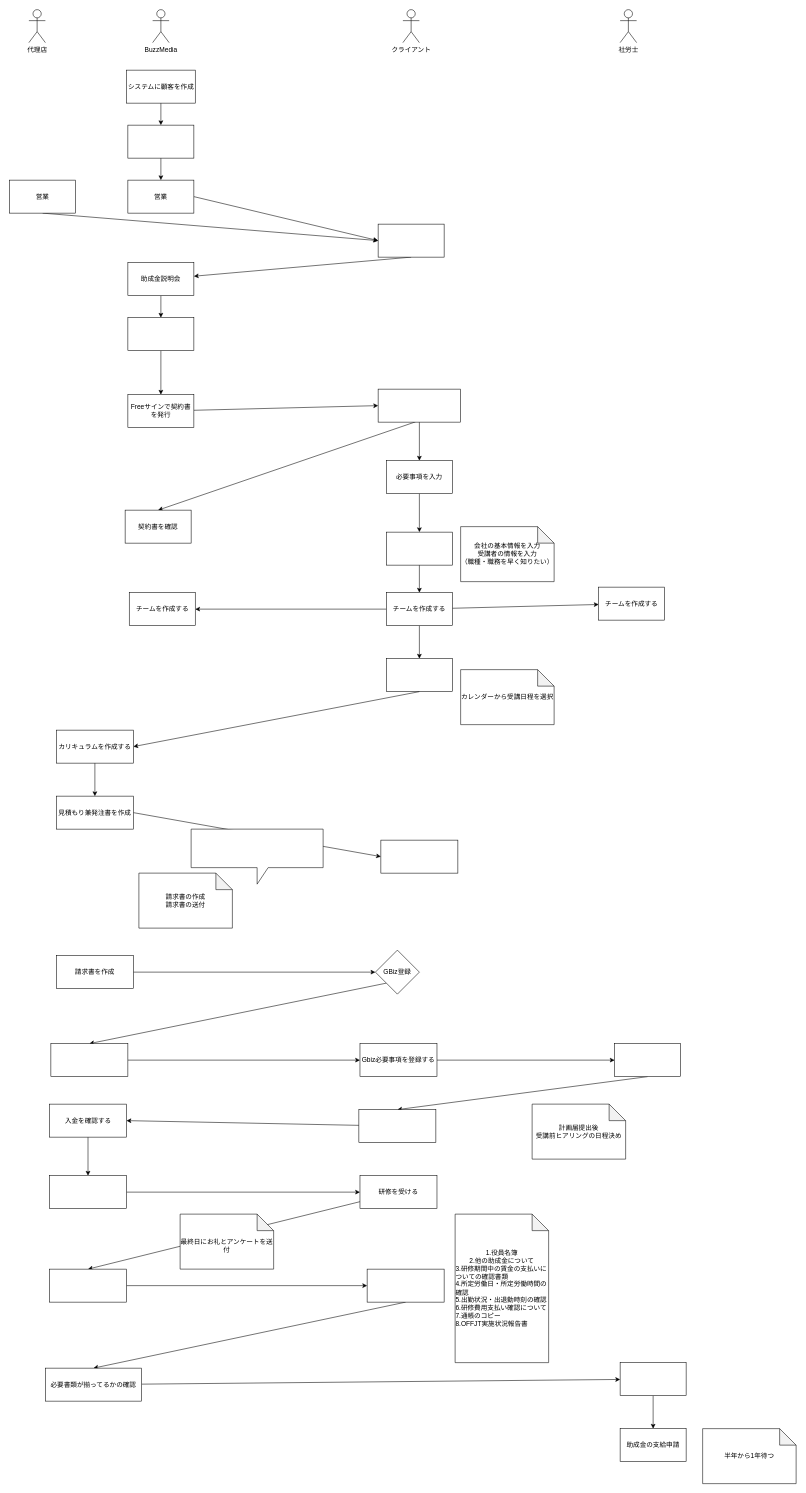
This 806x1493 diagram has some shape labels left out. The centre of each missing label's shape, as x and y in pixels:
Gbiz必要事項を案内する: point (89, 1060)
クライアントアカウントを発行: point (160, 334)
入金する: point (397, 1126)
内諾: point (411, 240)
契約書をアップロード: point (419, 405)
必要書類の内容の確認: point (653, 1379)
必要書類の準備をする: point (405, 1285)
支給申請の連絡をする: point (88, 1285)
日程を選択する: point (419, 675)
案件を作成: point (160, 141)
研修する: point (88, 1192)
見積もり兼発注書をアップロードする: point (419, 856)
計画届を作成: point (647, 1060)
請求書送付のタイミングは社労士に要確認: point (257, 856)
雇用契約書をアップロードする: point (419, 548)
